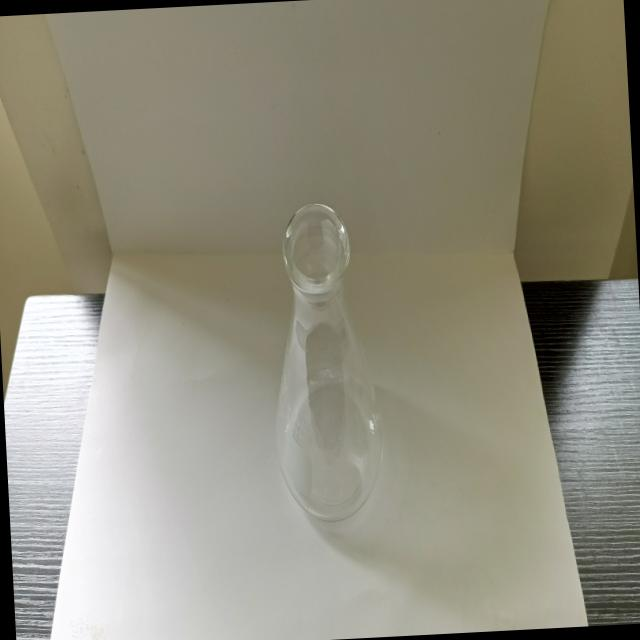erlenmeyer_flask: (251, 194, 394, 530)
